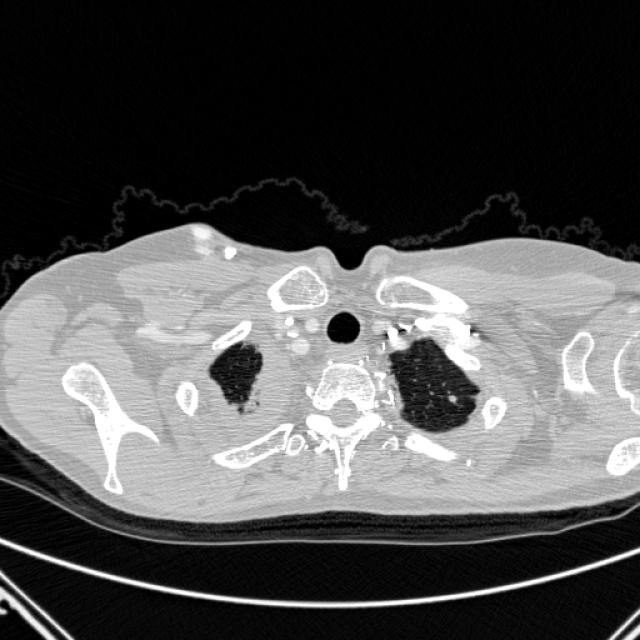nodule: (441, 388, 461, 408)
